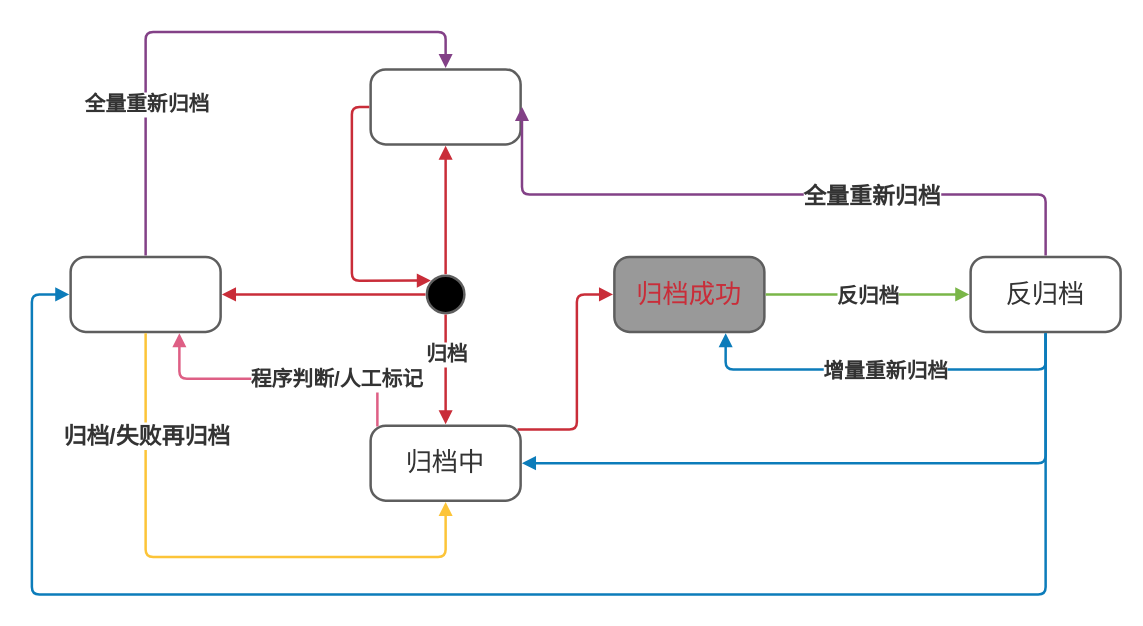
The diagram is 1143 pixels wide and 626 high, and some of its shapes have lost their labels. The shapes that lost their labels are listed below. From the top down, each one's box as (x1, y1, x2, y2) in pixels, then its label:
(369, 68, 521, 145): 无数据
(69, 255, 221, 332): 归档失败
